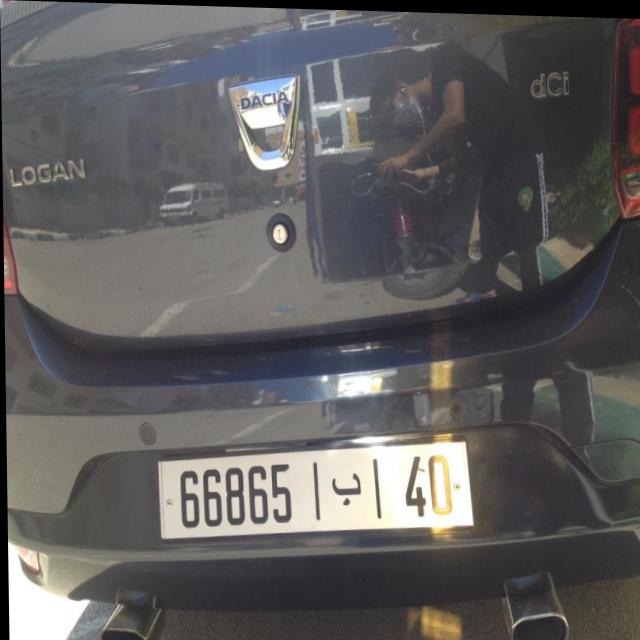License-Plate: (157, 437, 472, 539)
